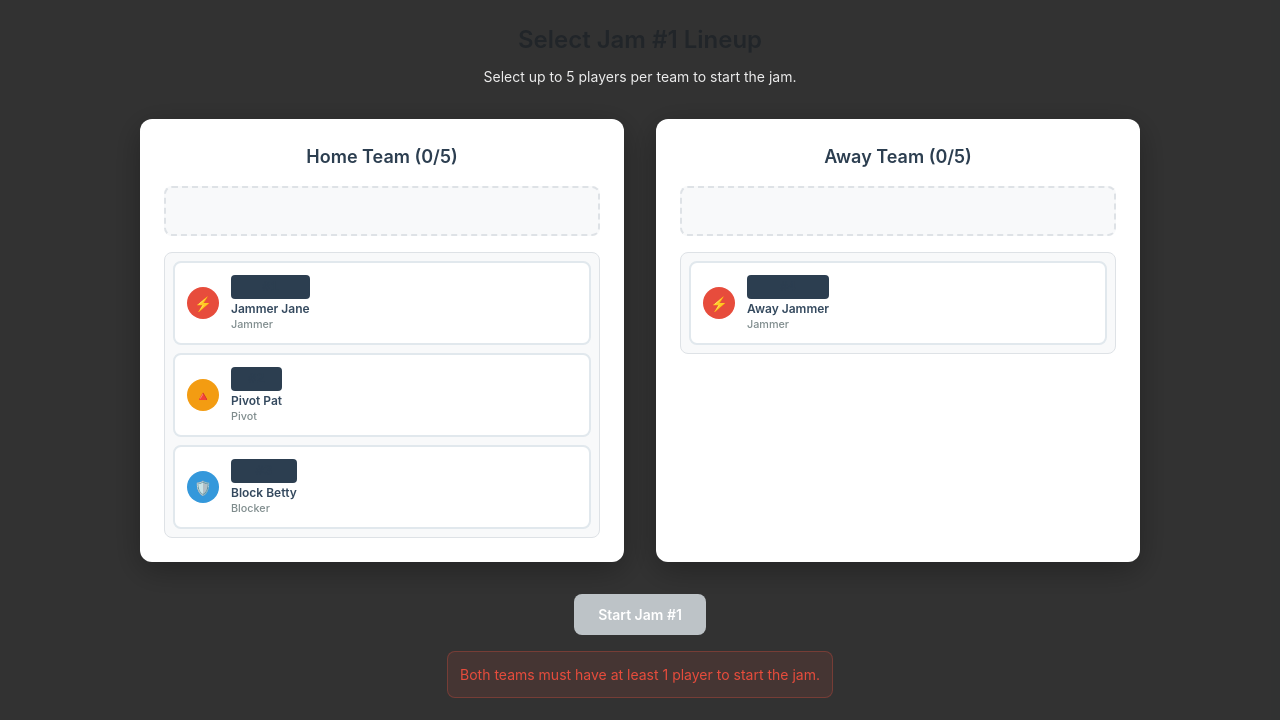
JamLineupSelector Component › shows selected players in lineup display
# Select a player
Click the text "Jammer Jane". click: (270, 308)
box: [231,301,310,316]
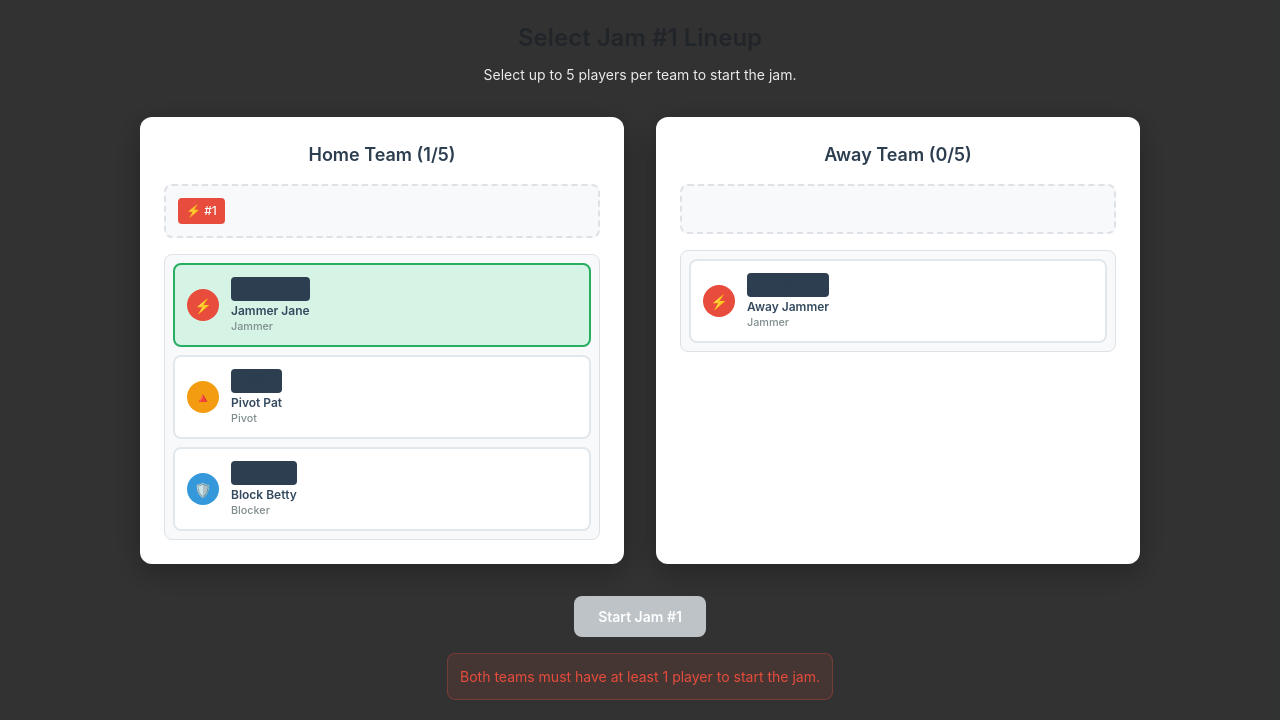
Now the heading "Home Team (1/5)" is shown, box [308,144,456,165]
